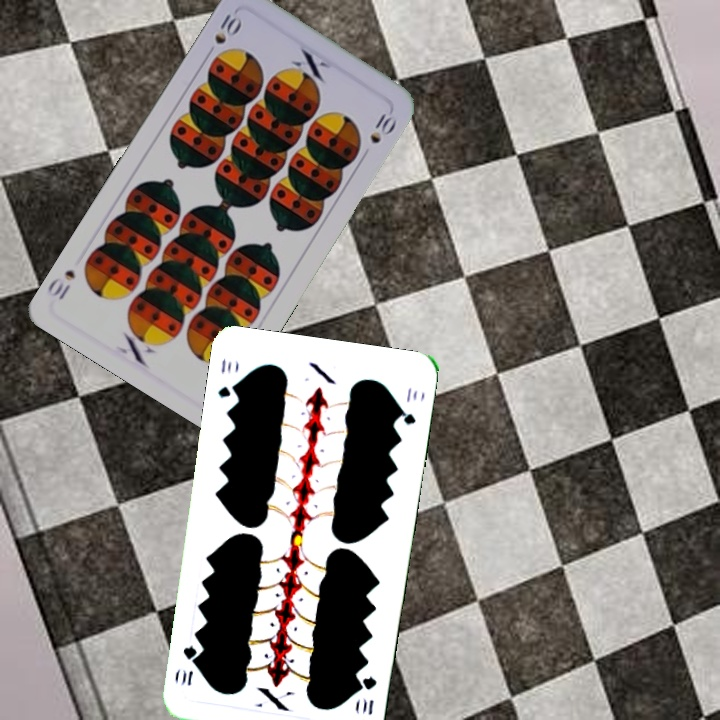G10: (214, 354, 241, 401), (357, 672, 379, 717)
S10: (202, 7, 245, 60)
